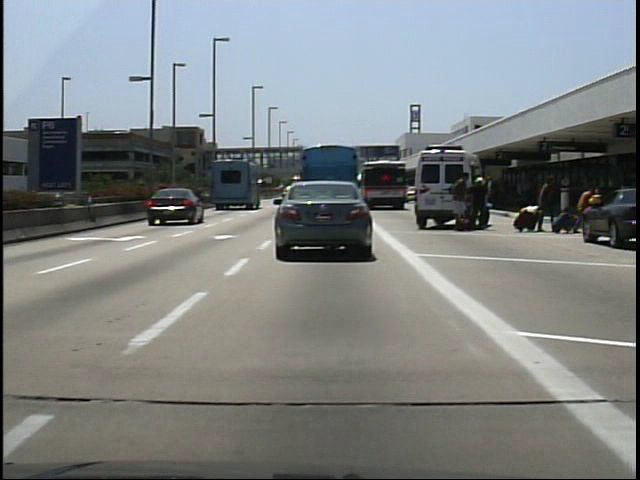person: (537, 169, 562, 238), (448, 168, 472, 233), (469, 174, 493, 231), (577, 183, 595, 209)
